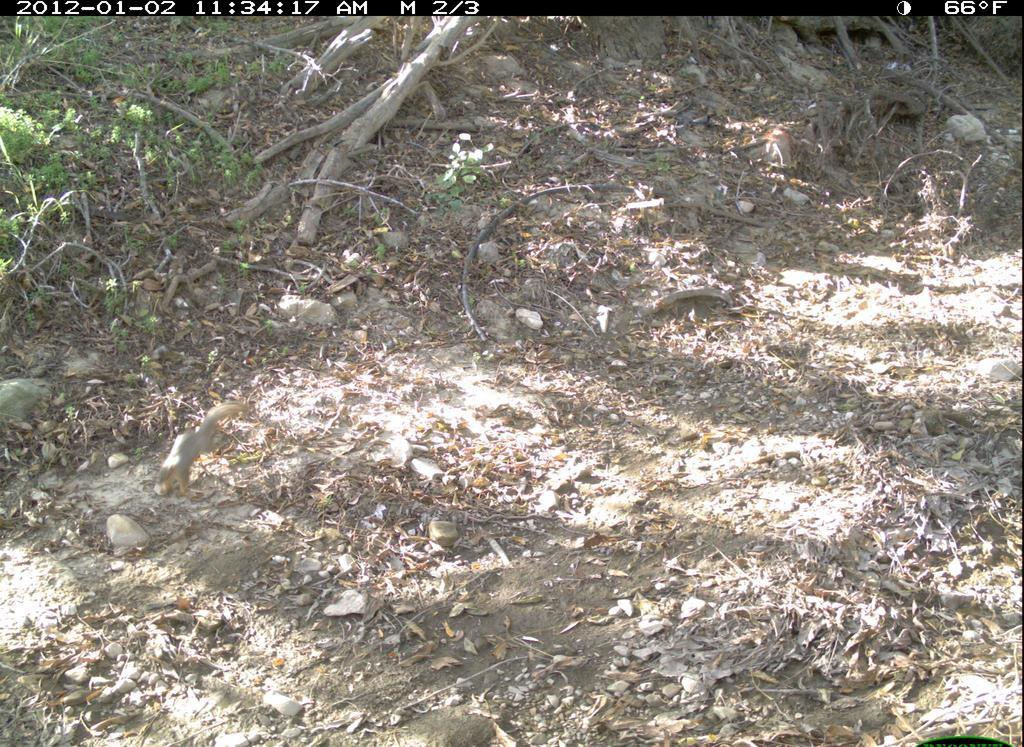squirrel: (152, 397, 258, 515)
